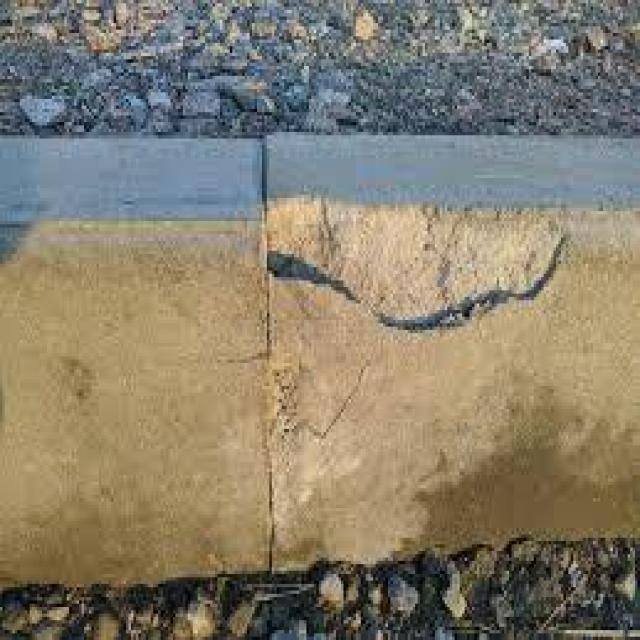curb: (5, 135, 640, 591)
